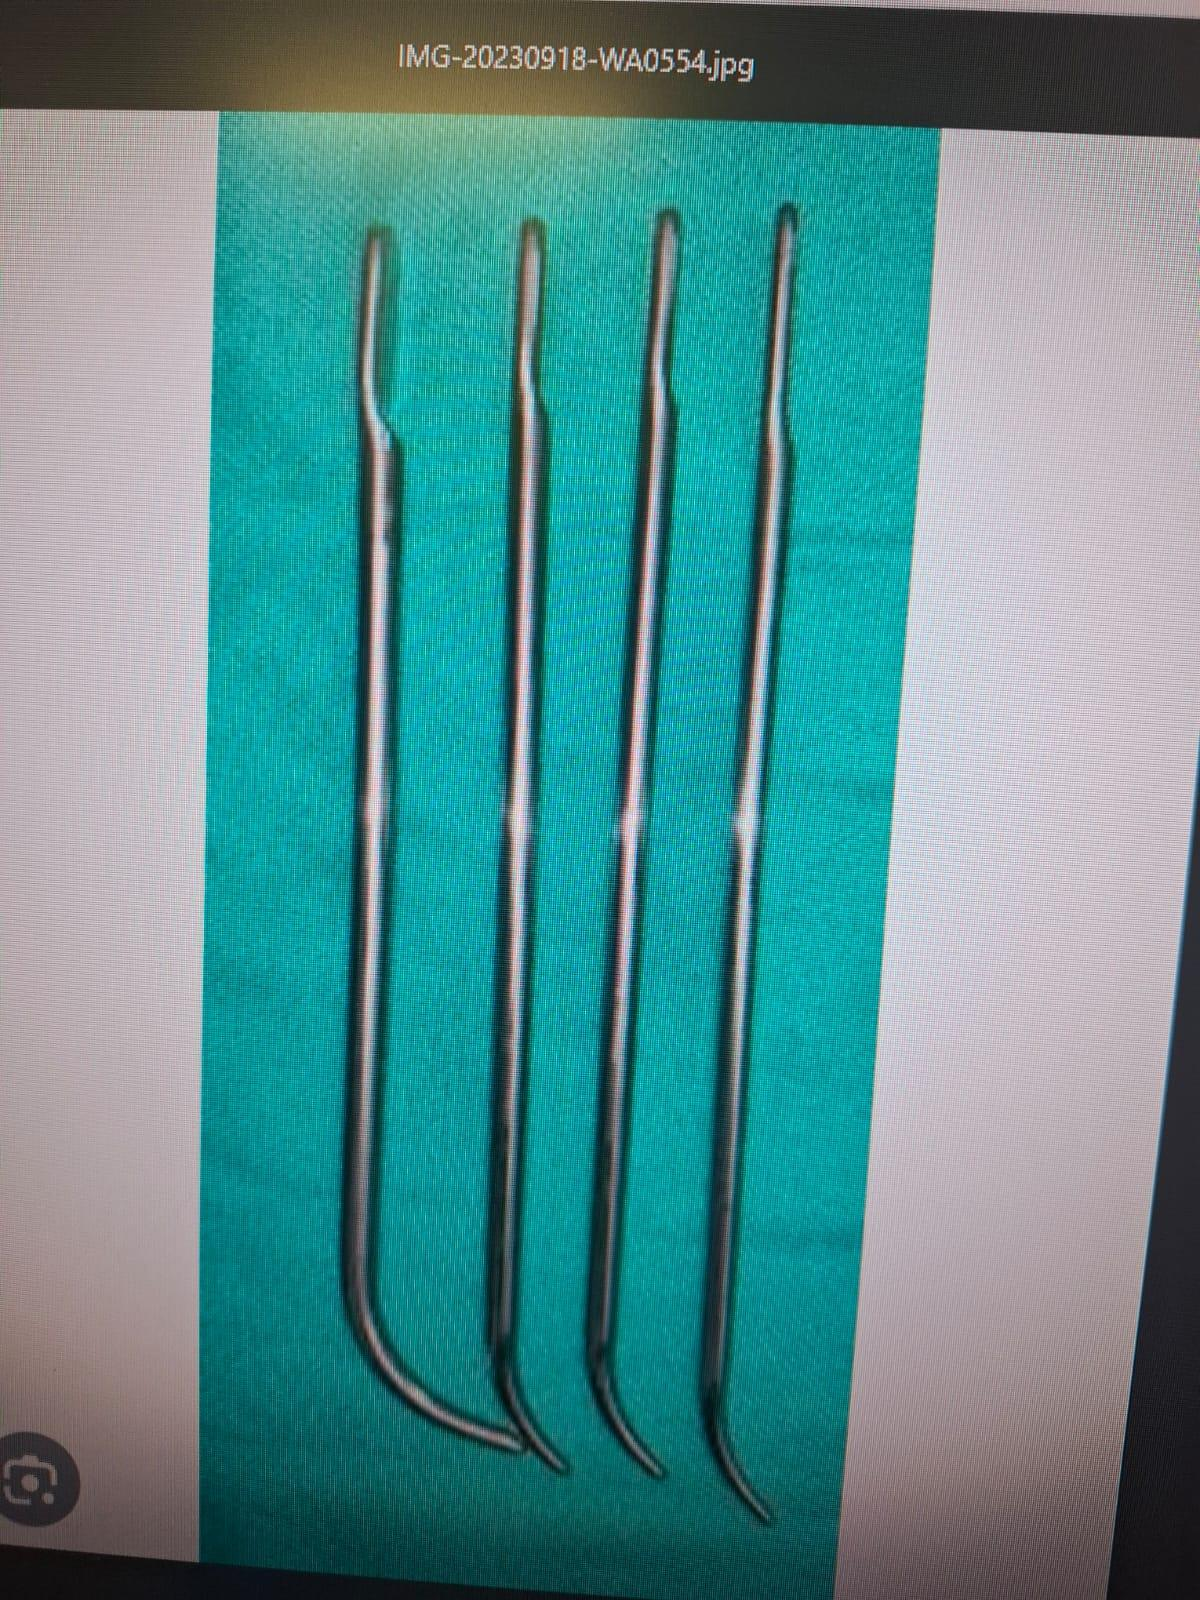Urethral Dilators: (292, 225, 530, 1473), (675, 188, 890, 1532), (395, 208, 610, 1480), (562, 190, 728, 1492)
